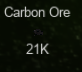Carbon: (4, 6, 71, 56)
